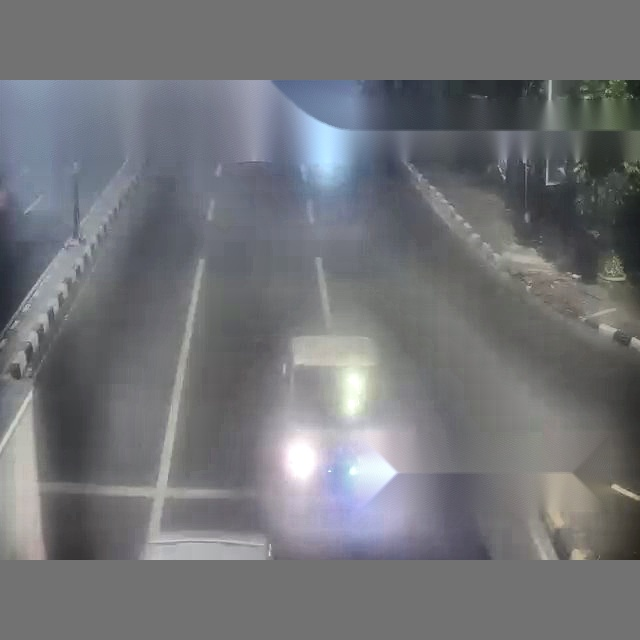Truk: (0, 380, 40, 560)
